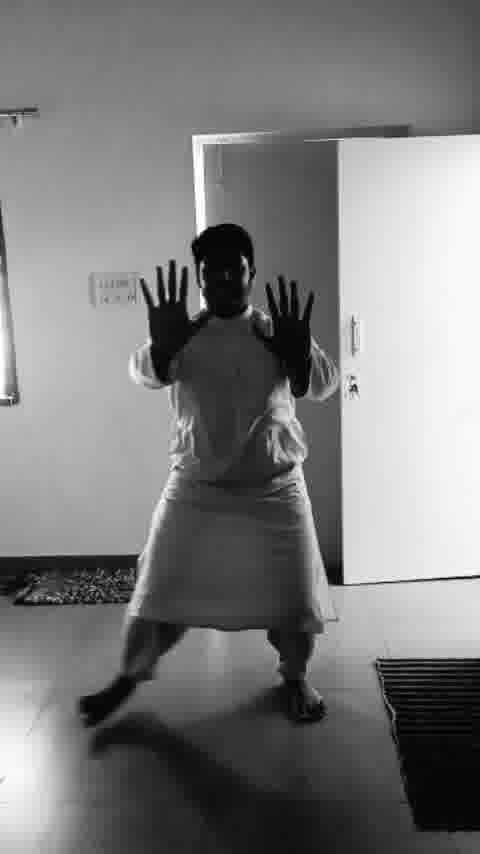duck: (81, 216, 362, 762)
